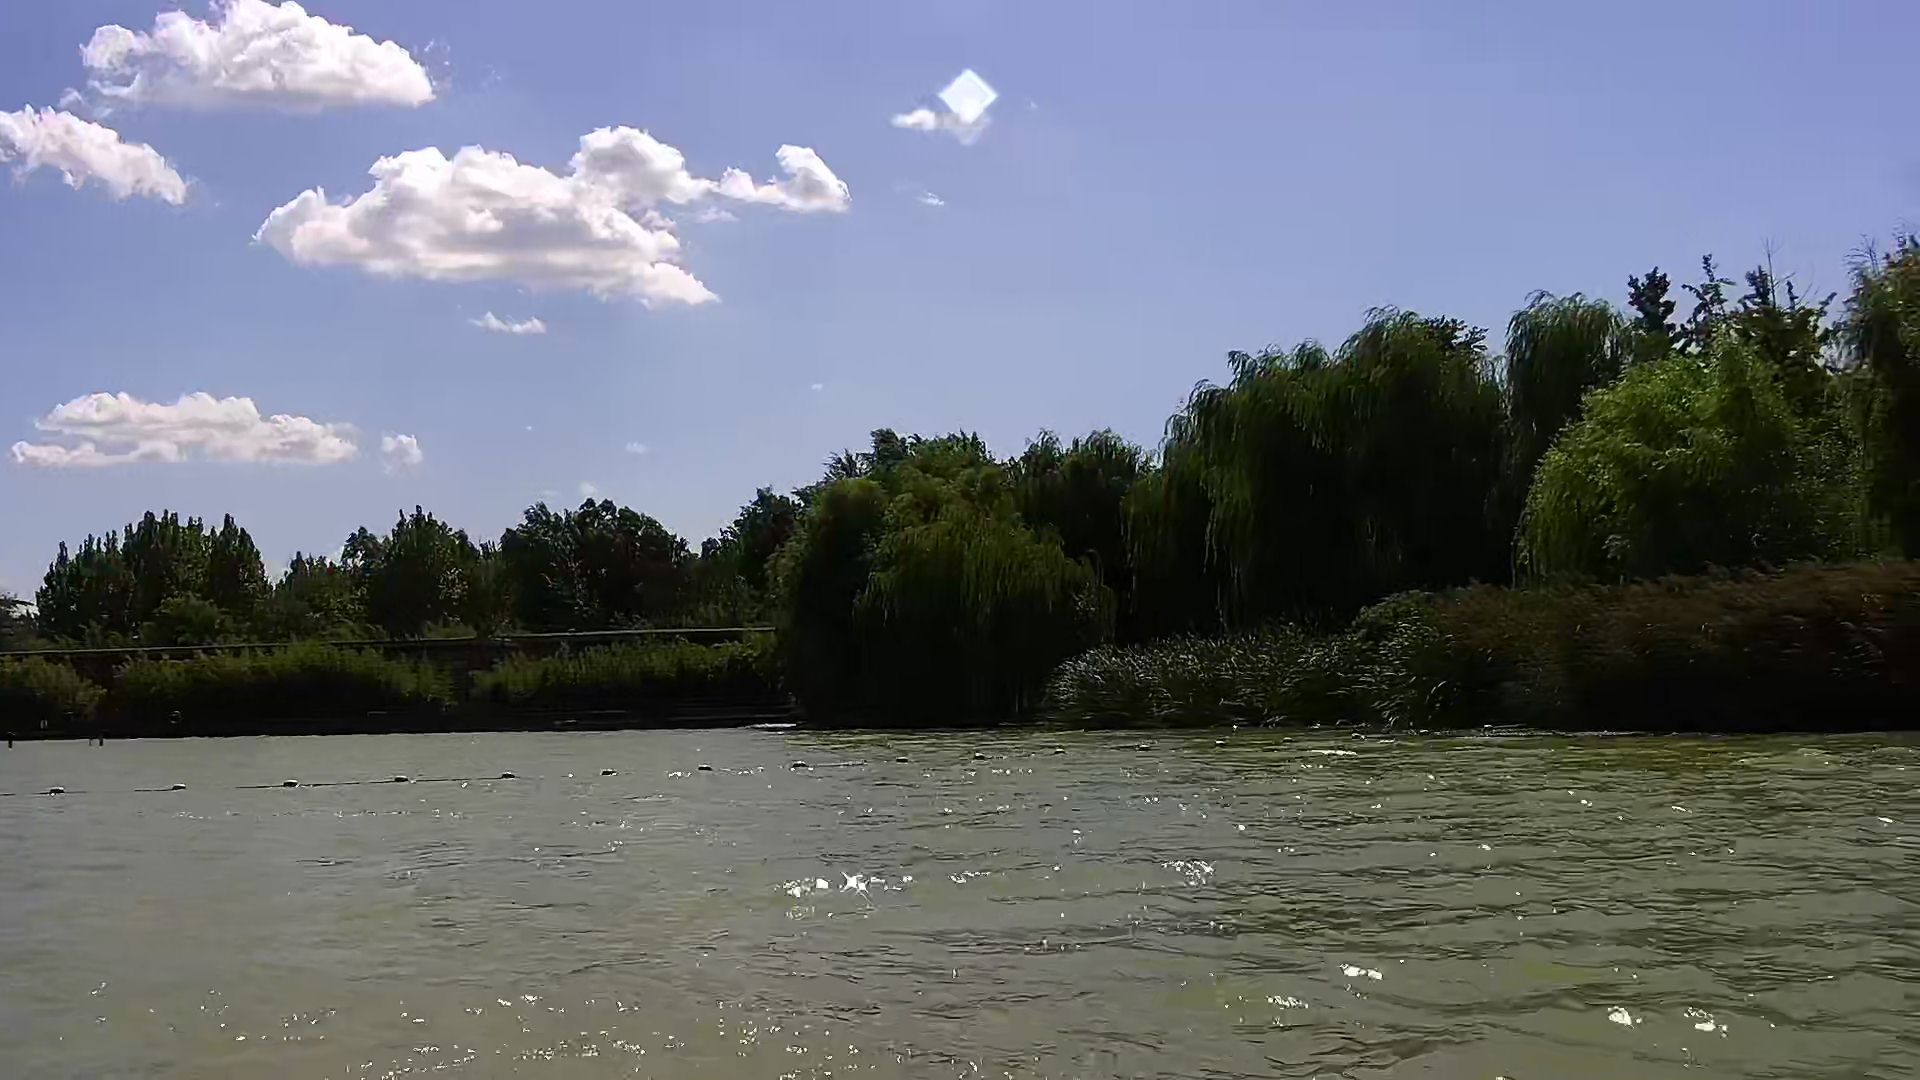ball: (42, 779, 69, 802), (278, 771, 303, 793), (497, 769, 520, 789), (390, 771, 411, 789)
